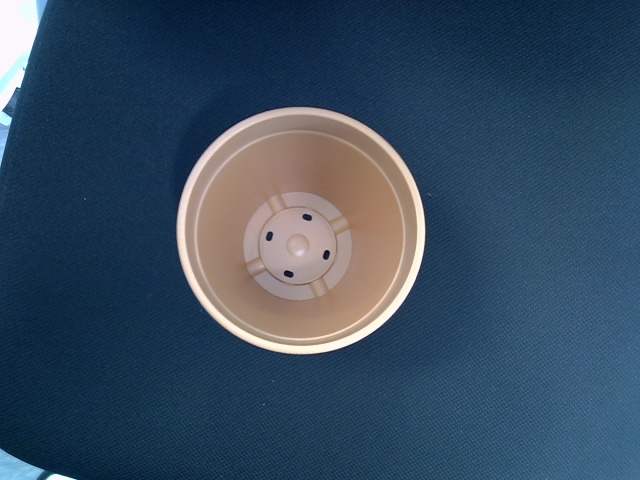화분: (174, 104, 427, 357)
